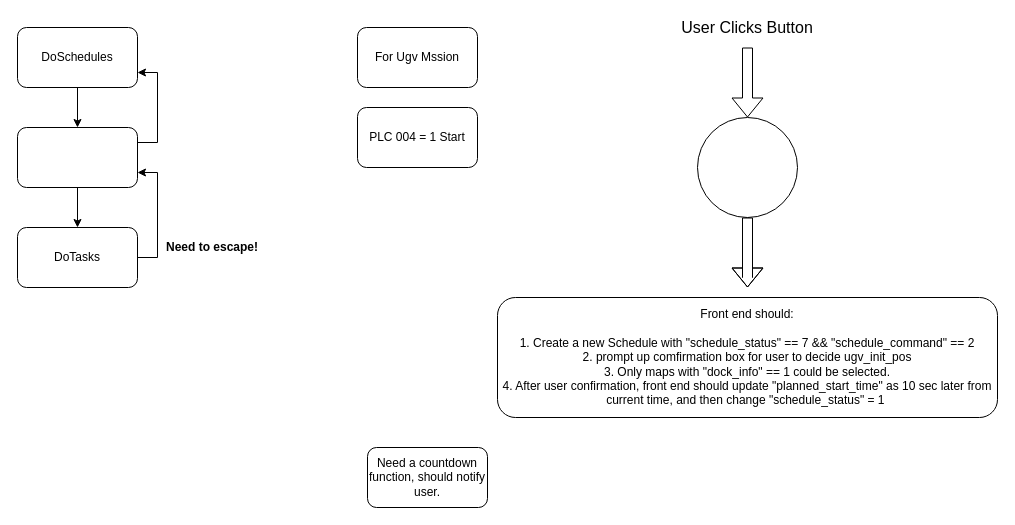
Image size: 1015x525. Some labels were removed from this diagram. The shapes that lost their labels are listed below. From the top down, each one's centre as x and y in pixels, then its label:
the point at 77,157: DoJobs
the point at 747,167: 小車回充電站
